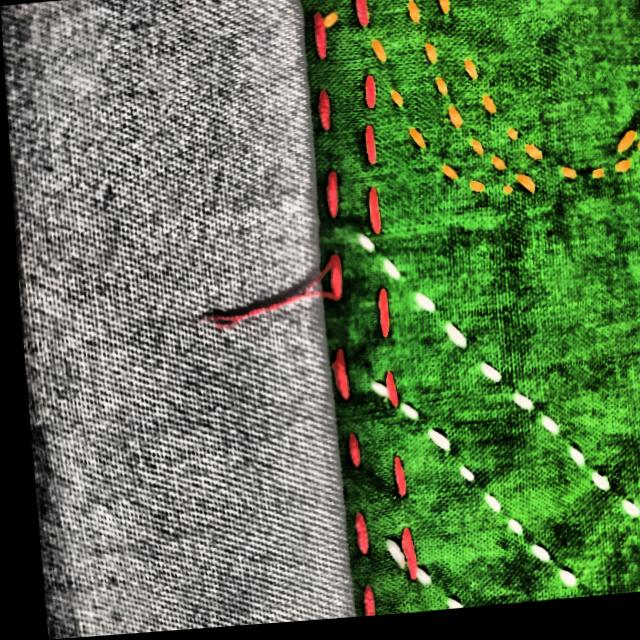Stitch: (192, 261, 344, 347)
